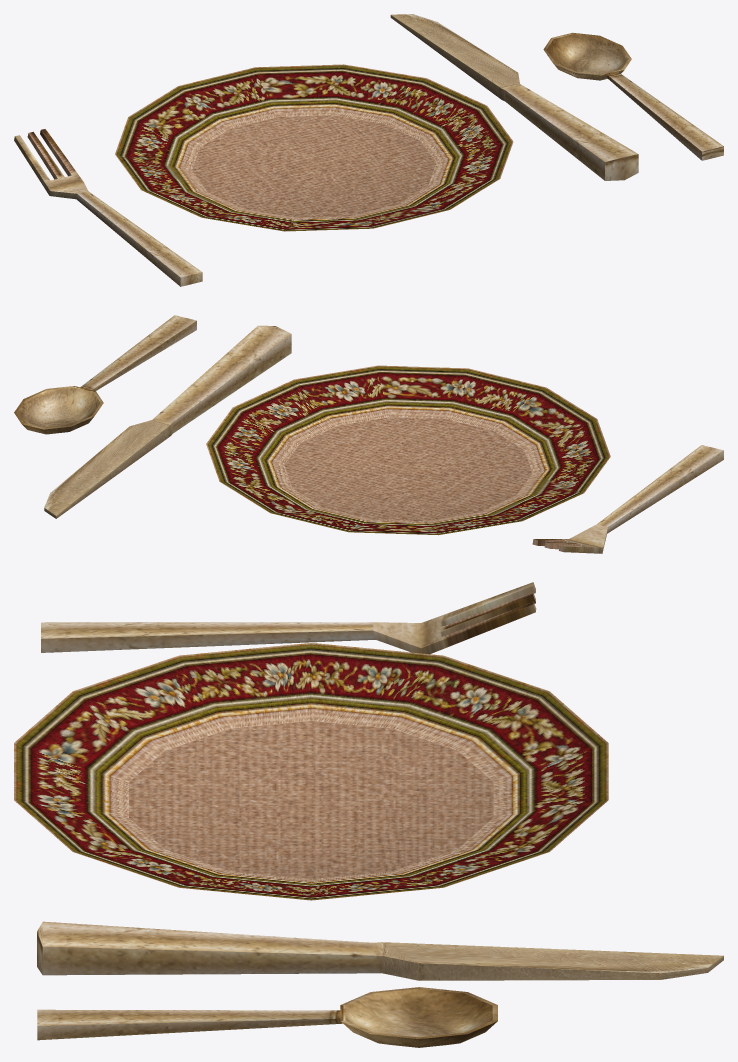
Rendered from mm9_deco_plateset1.glb.
The picture shows the model from 3 angles, top to bottom: view 1: azimuth 30°, elevation 25°; view 2: azimuth 150°, elevation 25°; view 3: azimuth 270°, elevation 25°; orthographic projection. The views are drawn at different scales.
Parts seen in each view (by area): view 1: Plateset1; view 2: Plateset1; view 3: Plateset1.
Boxes of the visible parts, <box> form: Plateset1: <box>14,14,723,286</box>; Plateset1: <box>14,315,723,553</box>; Plateset1: <box>14,582,723,1047</box>.
Bounding box in the file's own units: 0.8217 × 0.0471 × 0.5793.
Materials: 2 (2 with a texture image).
